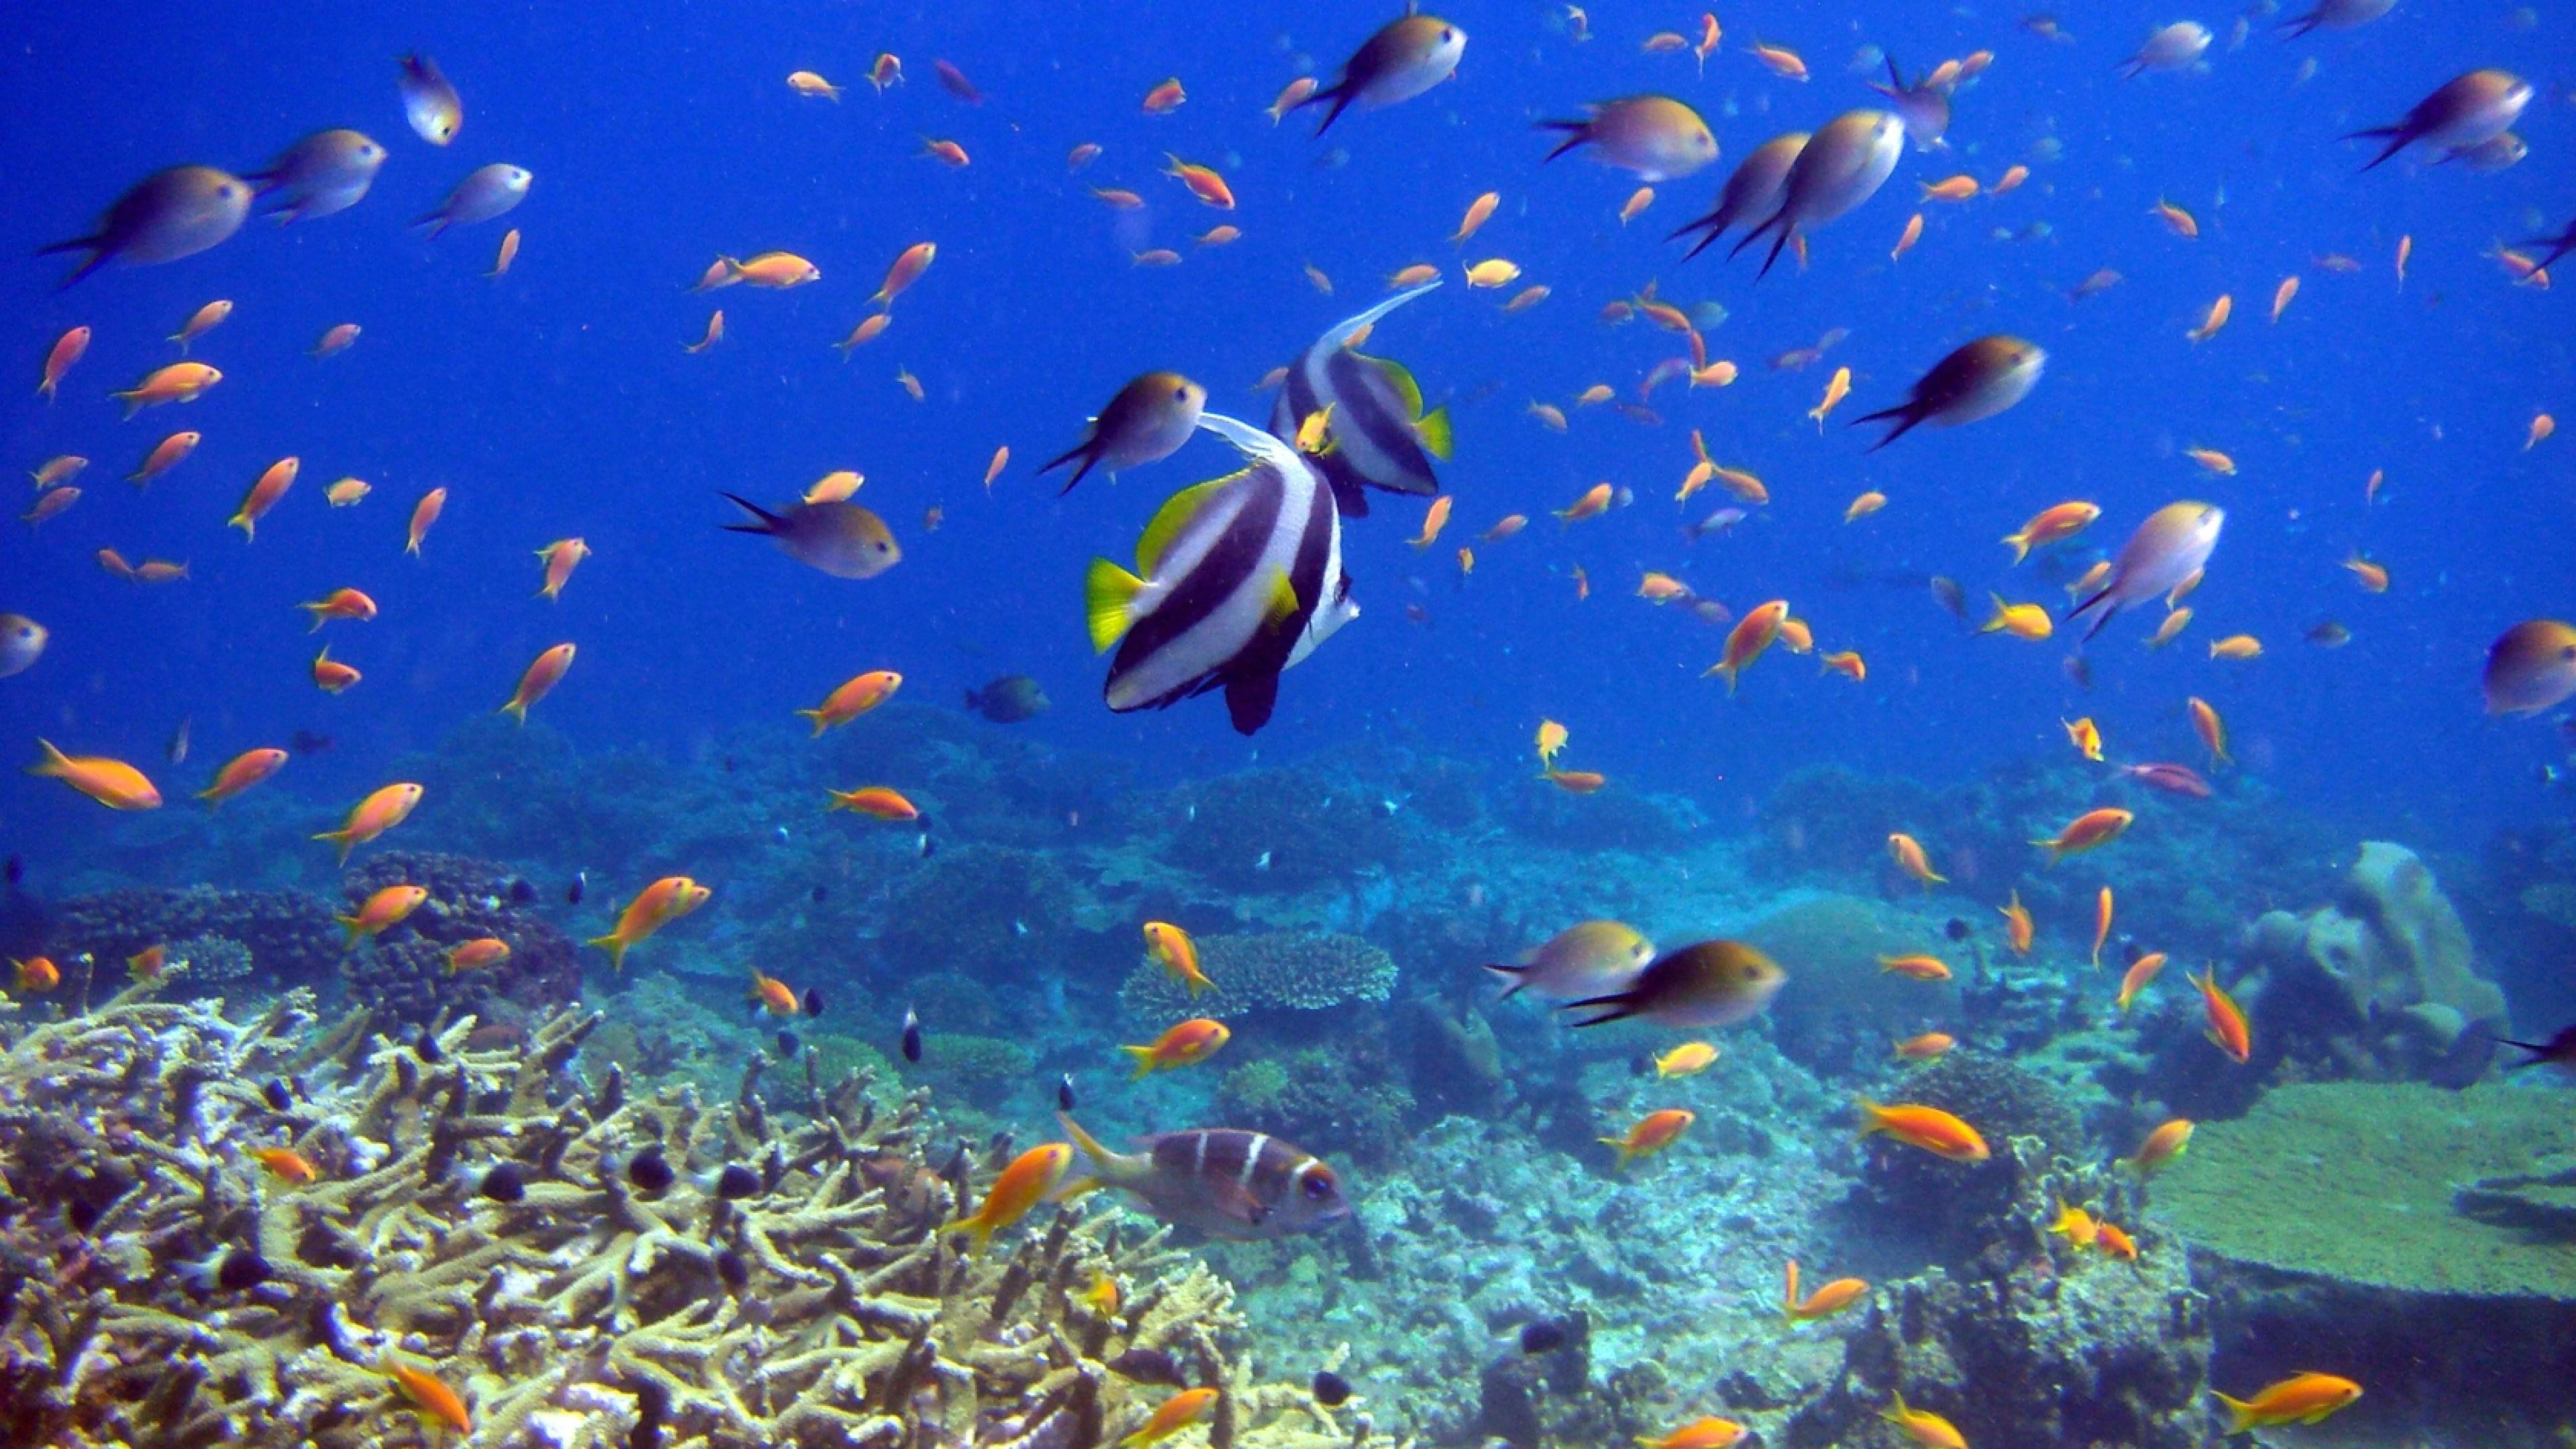fish: (1067, 410, 1391, 755), (1039, 1088, 1382, 1254), (32, 161, 285, 288), (2079, 476, 2245, 653), (1302, 7, 1488, 150), (2360, 41, 2557, 175), (1527, 69, 1725, 200), (1882, 329, 2077, 456), (1760, 96, 1905, 244), (1831, 1077, 2029, 1185), (223, 124, 395, 239), (748, 649, 955, 743), (732, 495, 929, 593), (391, 154, 563, 258), (1654, 594, 1805, 704), (1486, 922, 1668, 1012), (1591, 950, 1801, 1028), (357, 35, 472, 156), (1088, 1001, 1249, 1083), (2176, 952, 2261, 1079), (2015, 800, 2151, 876), (1131, 911, 1235, 1007), (1868, 814, 1966, 913), (487, 640, 593, 731), (1983, 490, 2111, 557), (511, 518, 603, 610), (1868, 934, 1980, 996)
